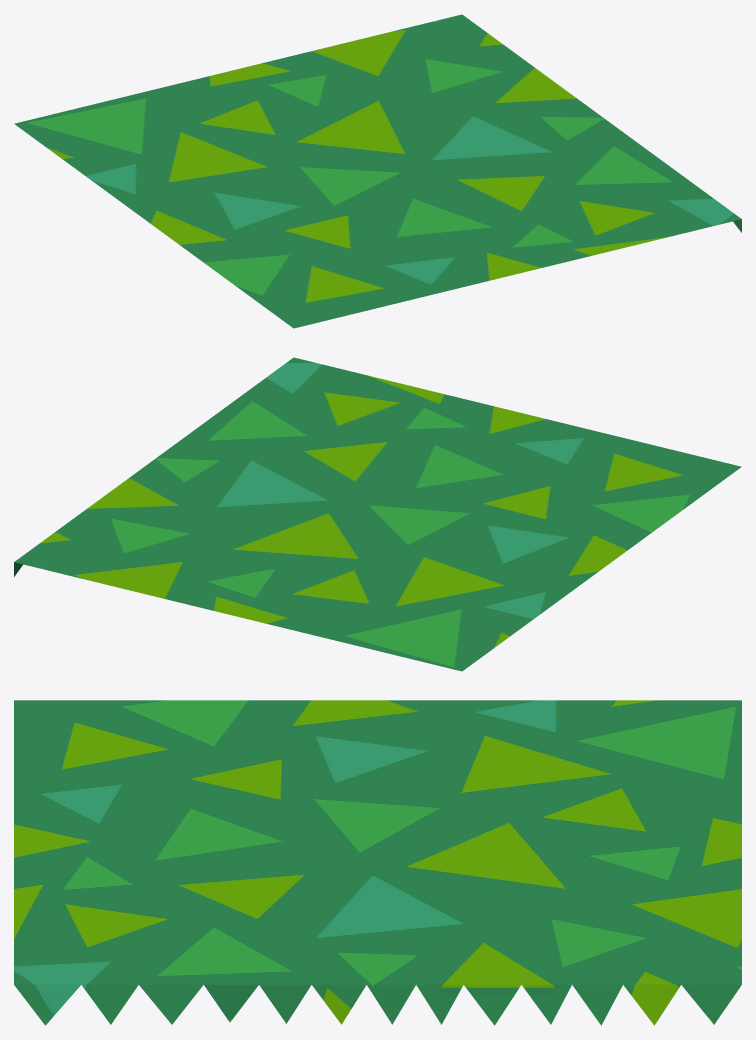
The model's file is Grass Edge.fbx.
The picture shows the model from 3 angles, top to bottom: view 1: azimuth 30°, elevation 25°; view 2: azimuth 150°, elevation 25°; view 3: azimuth 270°, elevation 25°; orthographic projection. The views are drawn at different scales.
Parts seen in each view (by area): view 1: Grass.Edge; view 2: Grass.Edge; view 3: Grass.Edge.
Part boxes in pixels (x1=…): Grass.Edge: x1=14, y1=14, x2=741, y2=328; Grass.Edge: x1=14, y1=357, x2=741, y2=671; Grass.Edge: x1=14, y1=700, x2=741, y2=1025.
Size of the model in its own units: 1.9 by 0.1013 by 2.
